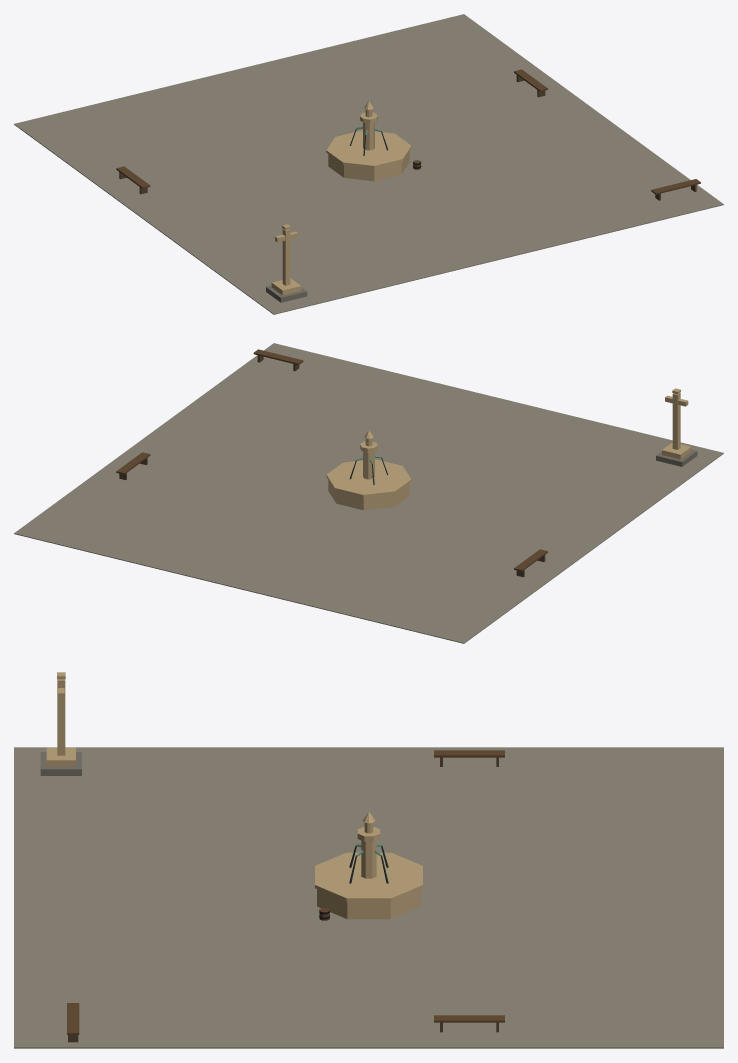
File: marktplatz.glb
3 renders of one model, top to bottom at view 1: azimuth 30°, elevation 25°; view 2: azimuth 150°, elevation 25°; view 3: azimuth 270°, elevation 25°, orthographic. The views are drawn at different scales.
Visible parts, largest first — view 1: Platz; view 2: Platz; view 3: Platz.
Part boxes in pixels (left/top/right/bottom): Platz: left=14, top=14, right=723, bottom=314; Platz: left=14, top=343, right=723, bottom=643; Platz: left=14, top=672, right=723, bottom=1048.
Size of the model in its own units: 24 by 3.51 by 24.
